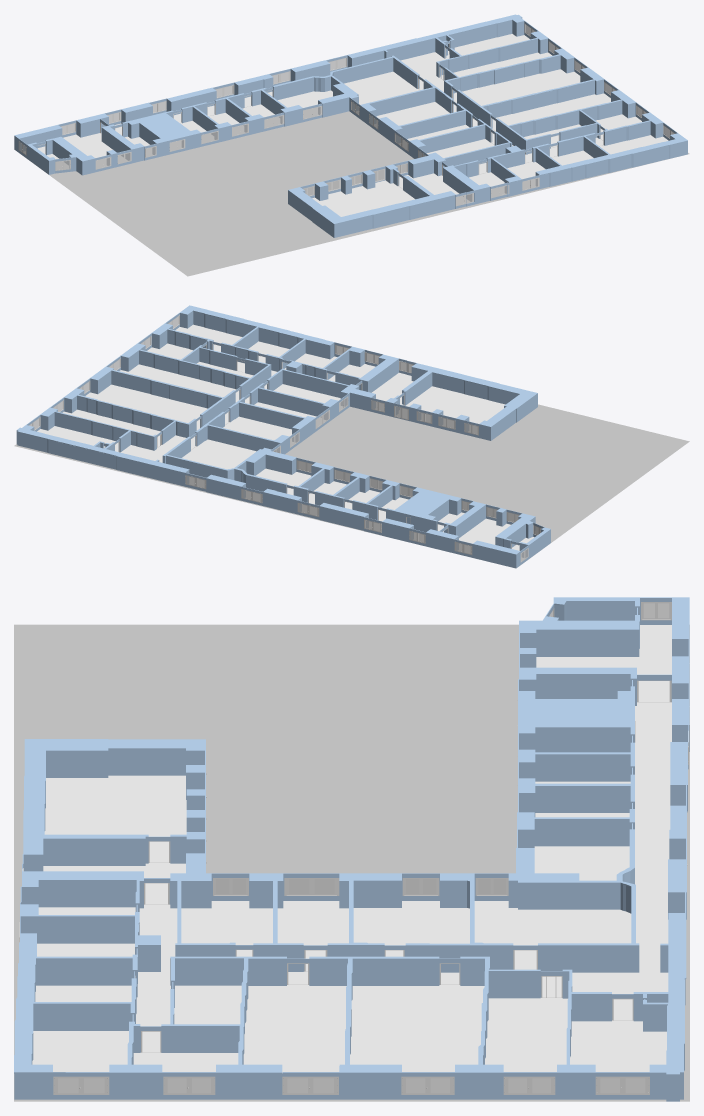
File: 3rdfloor.glb
3 renders of one model, top to bottom at view 1: azimuth 30°, elevation 25°; view 2: azimuth 150°, elevation 25°; view 3: azimuth 270°, elevation 25°, orthographic. The views are drawn at different scales.
Visible parts, largest first — view 1: ground_1, room_625_3607, room_614_3592, room_606_3576, room_596_3556, room_601_3566, room_613_3590, room_641_3623, wall_399_2393, room_602_3568, wall_415_2489, wall_386_2315 (+29 smaller); view 2: ground_1, room_625_3607, room_606_3576, room_614_3592, room_596_3556, room_601_3566, room_613_3590, room_641_3623, wall_37_220, wall_35_208, wall_392_2351, room_602_3568 (+28 smaller); view 3: ground_1, room_625_3607, room_596_3556, room_614_3592, room_613_3590, room_606_3576, room_615_3594, room_601_3566, room_616_3596, room_602_3568, room_610_3584, room_604_3572 (+52 smaller).
Boxes of the visible parts, left/top/right/bottom form: ground_1: left=15, top=54, right=689, bottom=276; room_625_3607: left=122, top=55, right=687, bottom=224; room_614_3592: left=453, top=69, right=580, bottom=105; room_606_3576: left=312, top=180, right=414, bottom=216; room_596_3556: left=101, top=52, right=603, bottom=174; room_601_3566: left=344, top=71, right=419, bottom=114; room_613_3590: left=492, top=93, right=610, bottom=131; room_641_3623: left=347, top=14, right=538, bottom=58; wall_399_2393: left=401, top=111, right=465, bottom=138; room_602_3568: left=374, top=102, right=449, bottom=127; wall_415_2489: left=370, top=88, right=435, bottom=115; wall_386_2315: left=421, top=125, right=485, bottom=153; ground_1: left=14, top=371, right=689, bottom=568; room_625_3607: left=163, top=305, right=537, bottom=521; room_606_3576: left=396, top=386, right=505, bottom=433; room_614_3592: left=85, top=384, right=207, bottom=430; room_596_3556: left=120, top=361, right=423, bottom=542; room_601_3566: left=181, top=439, right=256, bottom=469; room_613_3590: left=119, top=364, right=239, bottom=402; room_641_3623: left=16, top=415, right=189, bottom=473; wall_37_220: left=48, top=440, right=116, bottom=469; wall_35_208: left=116, top=457, right=184, bottom=486; wall_392_2351: left=258, top=389, right=322, bottom=417; room_602_3568: left=223, top=416, right=293, bottom=445; ground_1: left=14, top=624, right=689, bottom=1101; room_625_3607: left=14, top=679, right=639, bottom=1073; room_596_3556: left=136, top=702, right=671, bottom=1052; room_614_3592: left=350, top=985, right=484, bottom=1092; room_613_3590: left=243, top=985, right=346, bottom=1092; room_606_3576: left=44, top=775, right=186, bottom=862; room_615_3594: left=485, top=997, right=567, bottom=1092; room_601_3566: left=474, top=901, right=631, bottom=969; room_616_3596: left=570, top=1020, right=666, bottom=1092; room_602_3568: left=353, top=901, right=469, bottom=956; room_610_3584: left=32, top=1031, right=128, bottom=1092; room_604_3572: left=181, top=901, right=272, bottom=956.
Size of the model in its own units: 9829 by 262 by 5888.
